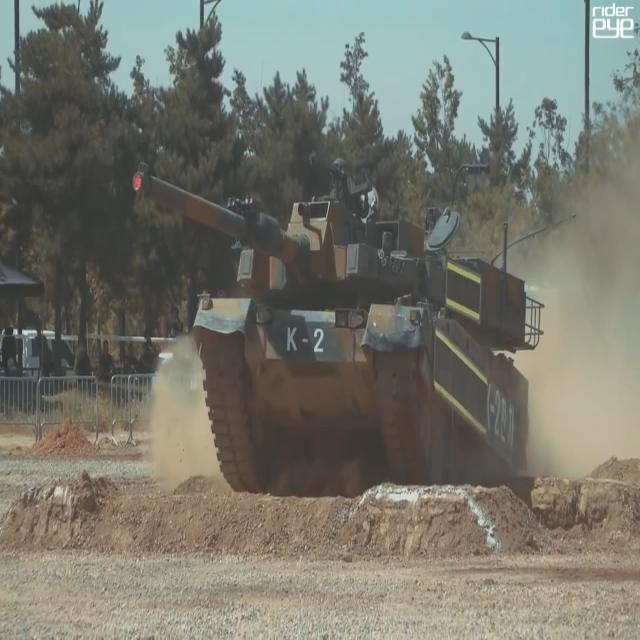korea tank: (132, 153, 546, 497)
